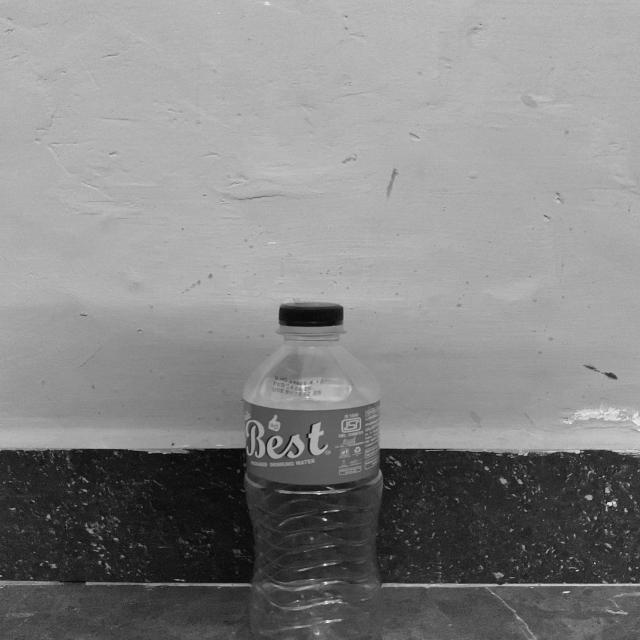Good-cap-Df0S: (276, 300, 347, 335)
